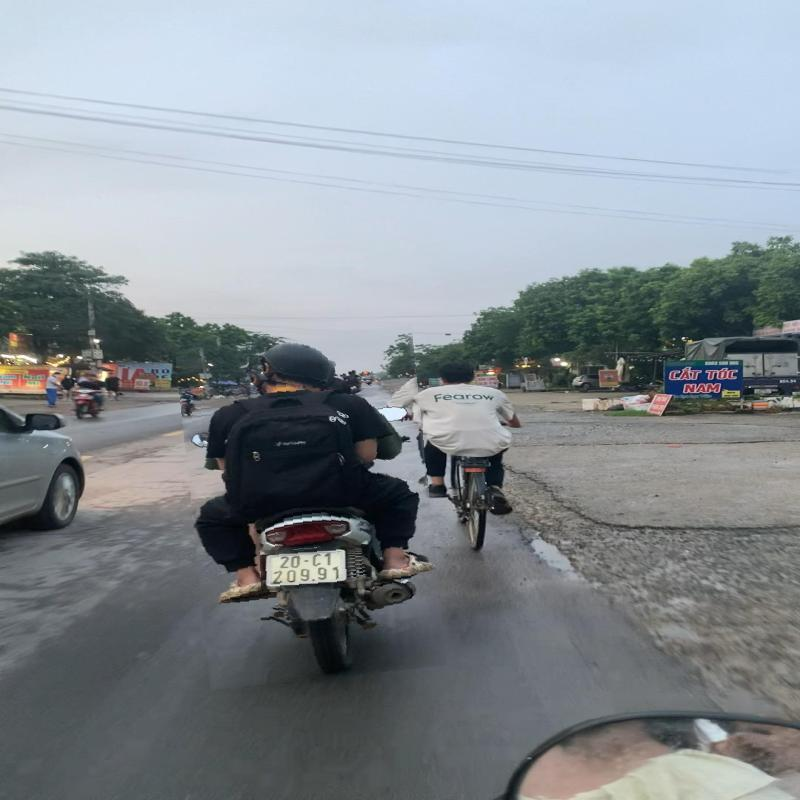helmet: (249, 336, 337, 388)
licenseplate: (260, 547, 356, 591)
motorcyclist: (184, 330, 439, 685)
